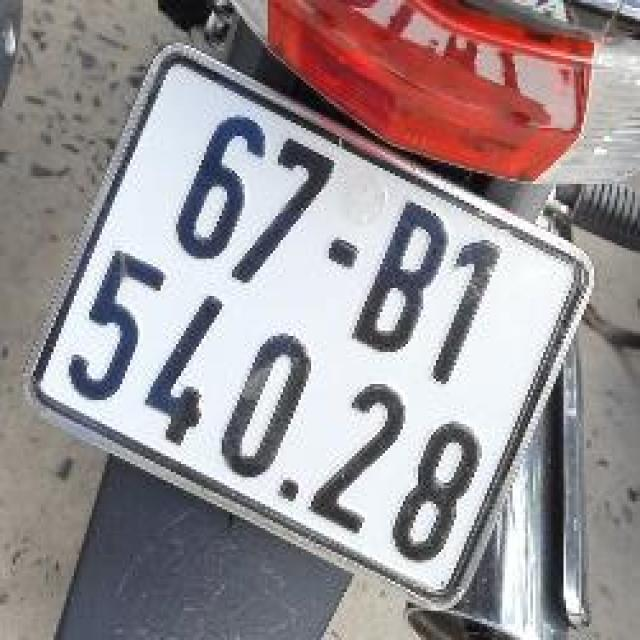0: (203, 311, 342, 496)
1: (412, 219, 524, 400)
2: (296, 363, 437, 549)
4: (126, 276, 266, 464)
5: (53, 236, 184, 416)
6: (160, 103, 281, 279)
7: (220, 124, 347, 299)
8: (367, 402, 503, 587)
B: (339, 190, 469, 366)
